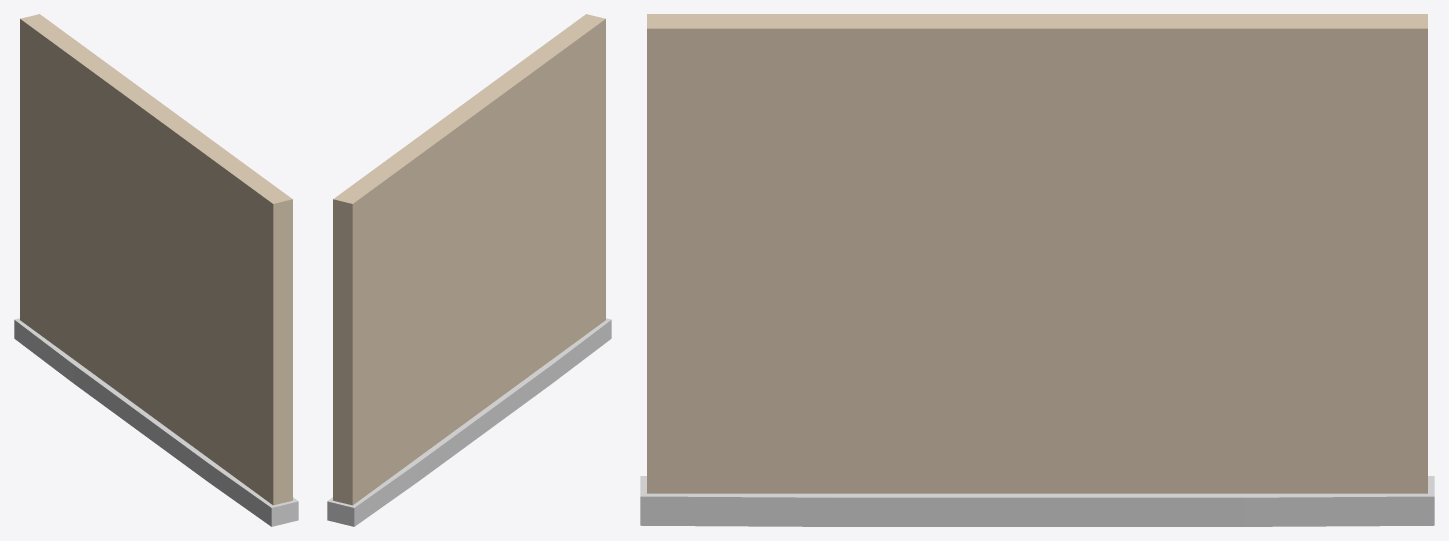
Rendered from Wall.fbx.
The picture shows the model from 3 angles, left to right: view 1: azimuth 30°, elevation 25°; view 2: azimuth 150°, elevation 25°; view 3: azimuth 270°, elevation 25°; orthographic projection. The views are drawn at different scales.
Parts seen in each view (by area): view 1: Wall; view 2: Wall; view 3: Wall.
Part boxes in pixels (left/top/right/bottom): Wall: left=14, top=14, right=298, bottom=526; Wall: left=327, top=14, right=611, bottom=526; Wall: left=640, top=14, right=1434, bottom=526.
Bounding box in the file's own units: 138 × 1397 × 2034.
